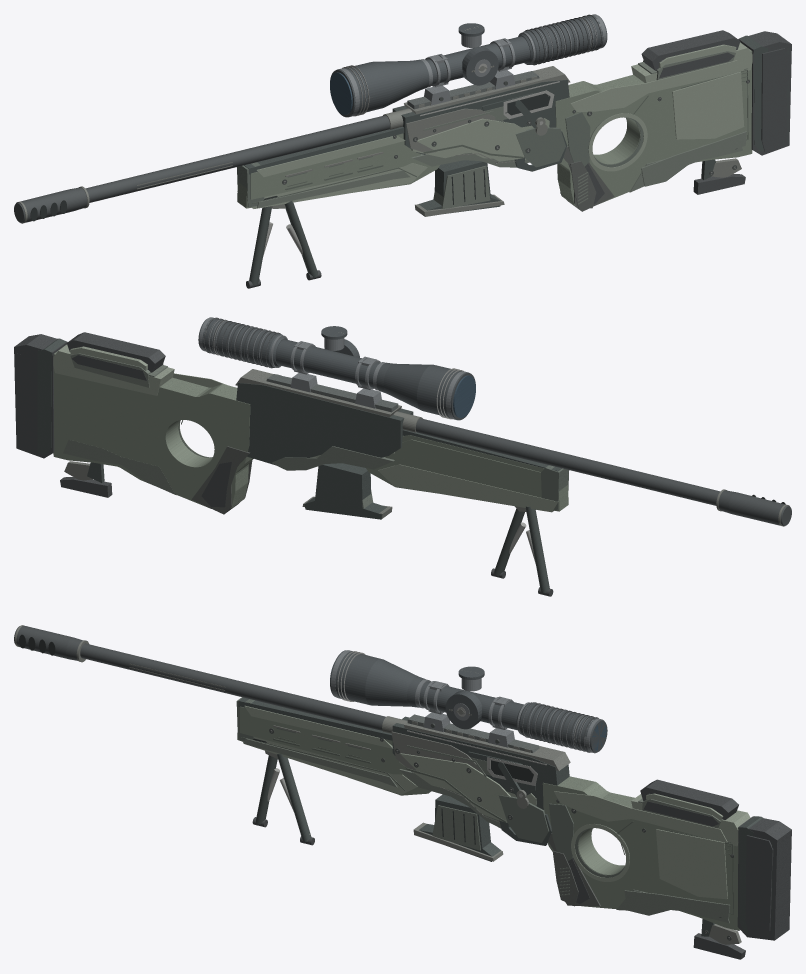
Rendered from CROSSFIRE_AWP_ReferenceInspired_v03.glb.
3 views of the same model, one above another, from view 1: azimuth 30°, elevation 25°; view 2: azimuth 150°, elevation 25°; view 3: azimuth 330°, elevation 25° (orthographic).
Parts seen in each view (by area): view 1: S01_STOCK_thumbhole_shell, B01_BARREL_steel_tube, V03_STOCK_rear_faceted_panel, V03_FOREND_outer_face, O05_OPTIC_front_objective, V03_RECEIVER_large_outer_chassis, V03_STOCK_rear_heel, V03_STOCK_contour_top, O07_OPTIC_rear_eyepiece, R01_RECEIVER_main, V03_STOCK_lower_ergonomic_scoop, M02_MAGAZINE_front_face (+29 smaller); view 2: S01_STOCK_thumbhole_shell, R01_RECEIVER_main, B01_BARREL_steel_tube, V03_FOREND_outer_face, O05_OPTIC_front_objective, F02_FOREND_lower_rib, M01_MAGAZINE_profile, S07_STOCK_buttpad, O07_OPTIC_rear_eyepiece, O06_OPTIC_center_tube, S08_STOCK_buttpad_edge, B05_MUZZLE_shroud (+18 smaller); view 3: S01_STOCK_thumbhole_shell, B01_BARREL_steel_tube, V03_STOCK_rear_faceted_panel, O05_OPTIC_front_objective, V03_FOREND_outer_face, S07_STOCK_buttpad, V03_RECEIVER_large_outer_chassis, O07_OPTIC_rear_eyepiece, V03_STOCK_rear_heel, V03_STOCK_contour_top, R01_RECEIVER_main, V03_STOCK_lower_ergonomic_scoop (+25 smaller).
Part boxes in pixels (x1,y1,x2,y2): S01_STOCK_thumbhole_shell: [555, 42, 752, 205]; B01_BARREL_steel_tube: [85, 115, 390, 202]; V03_STOCK_rear_faceted_panel: [672, 71, 744, 139]; V03_FOREND_outer_face: [250, 141, 421, 199]; O05_OPTIC_front_objective: [330, 59, 429, 117]; V03_RECEIVER_large_outer_chassis: [417, 118, 526, 161]; V03_STOCK_rear_heel: [761, 48, 788, 151]; V03_STOCK_contour_top: [570, 60, 743, 111]; O07_OPTIC_rear_eyepiece: [519, 15, 607, 64]; R01_RECEIVER_main: [392, 79, 569, 154]; V03_STOCK_lower_ergonomic_scoop: [641, 131, 746, 186]; M02_MAGAZINE_front_face: [433, 165, 490, 208]; S01_STOCK_thumbhole_shell: [53, 345, 253, 508]; R01_RECEIVER_main: [236, 382, 413, 465]; B01_BARREL_steel_tube: [415, 418, 720, 505]; V03_FOREND_outer_face: [385, 439, 541, 497]; O05_OPTIC_front_objective: [376, 362, 475, 420]; F02_FOREND_lower_rib: [378, 464, 558, 512]; M01_MAGAZINE_profile: [304, 463, 387, 519]; S07_STOCK_buttpad: [14, 334, 67, 458]; O07_OPTIC_rear_eyepiece: [198, 318, 286, 367]; O06_OPTIC_center_tube: [275, 339, 379, 387]; S08_STOCK_buttpad_edge: [37, 338, 66, 454]; B05_MUZZLE_shroud: [718, 490, 791, 525]; S01_STOCK_thumbhole_shell: [542, 776, 739, 930]; B01_BARREL_steel_tube: [80, 643, 385, 730]; V03_STOCK_rear_faceted_panel: [656, 829, 727, 899]; O05_OPTIC_front_objective: [330, 650, 425, 707]; V03_FOREND_outer_face: [240, 706, 409, 774]; S07_STOCK_buttpad: [737, 816, 791, 940]; V03_RECEIVER_large_outer_chassis: [400, 753, 510, 822]; O07_OPTIC_rear_eyepiece: [516, 702, 607, 752]; V03_STOCK_rear_heel: [745, 835, 773, 934]; V03_STOCK_contour_top: [554, 791, 727, 842]; R01_RECEIVER_main: [392, 716, 569, 809]; V03_STOCK_lower_ergonomic_scoop: [624, 890, 730, 918].
Bounding box in the file's own units: 12.23 × 3.36 × 0.7.
23 materials, 23 textured.
